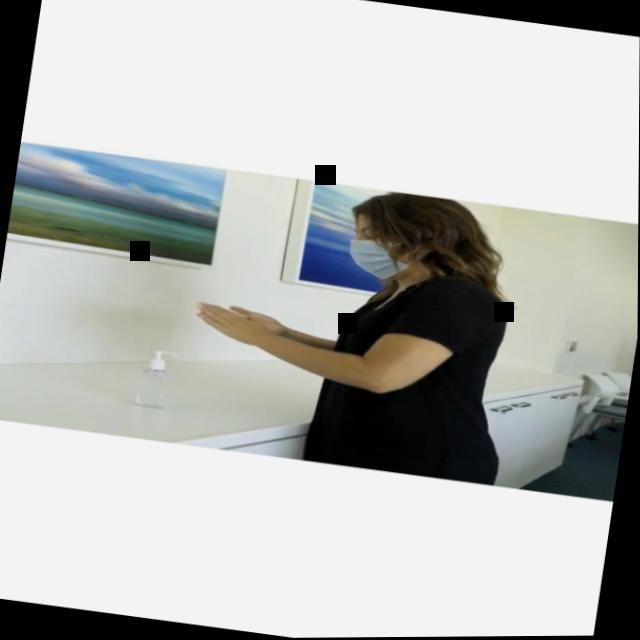Mask: (341, 196, 427, 294)
